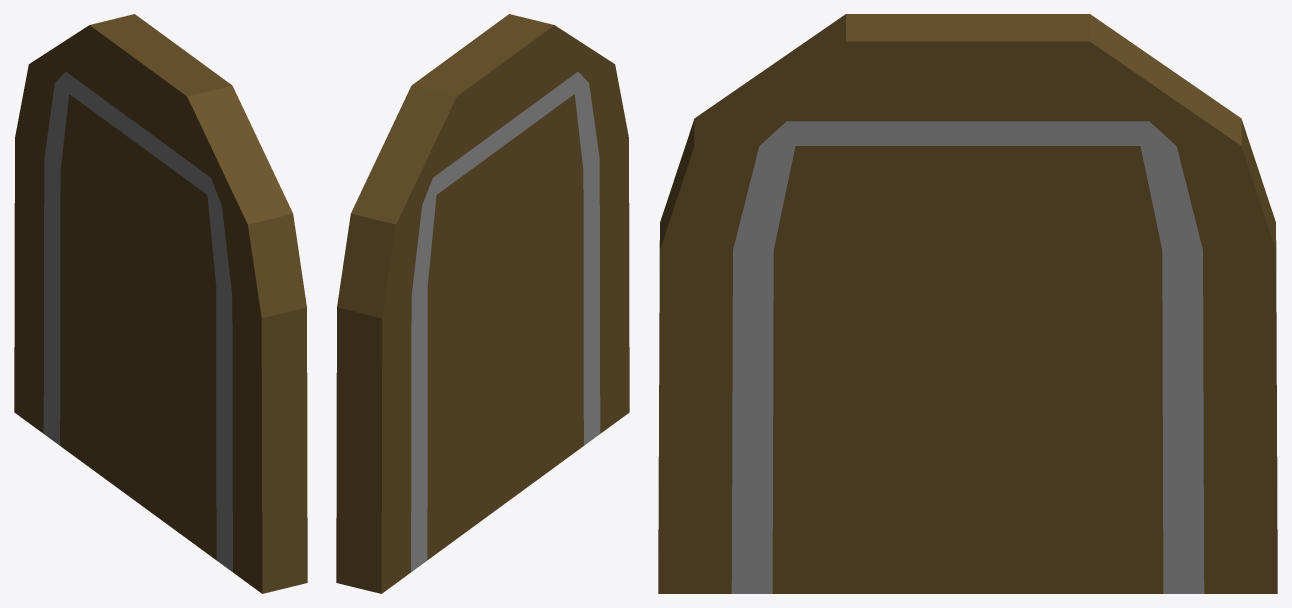
The model's file is door.fbx.
3 renders of one model, left to right at view 1: azimuth 30°, elevation 25°; view 2: azimuth 150°, elevation 25°; view 3: azimuth 270°, elevation 25°, orthographic. The views are drawn at different scales.
Parts seen in each view (by area): view 1: Door; view 2: Door; view 3: Door.
Part boxes in pixels (x1,y1,x2,y2): Door: (14, 14, 307, 593); Door: (336, 14, 629, 593); Door: (658, 14, 1277, 593).
Size of the model in its own units: 46.28 by 432 by 439.
